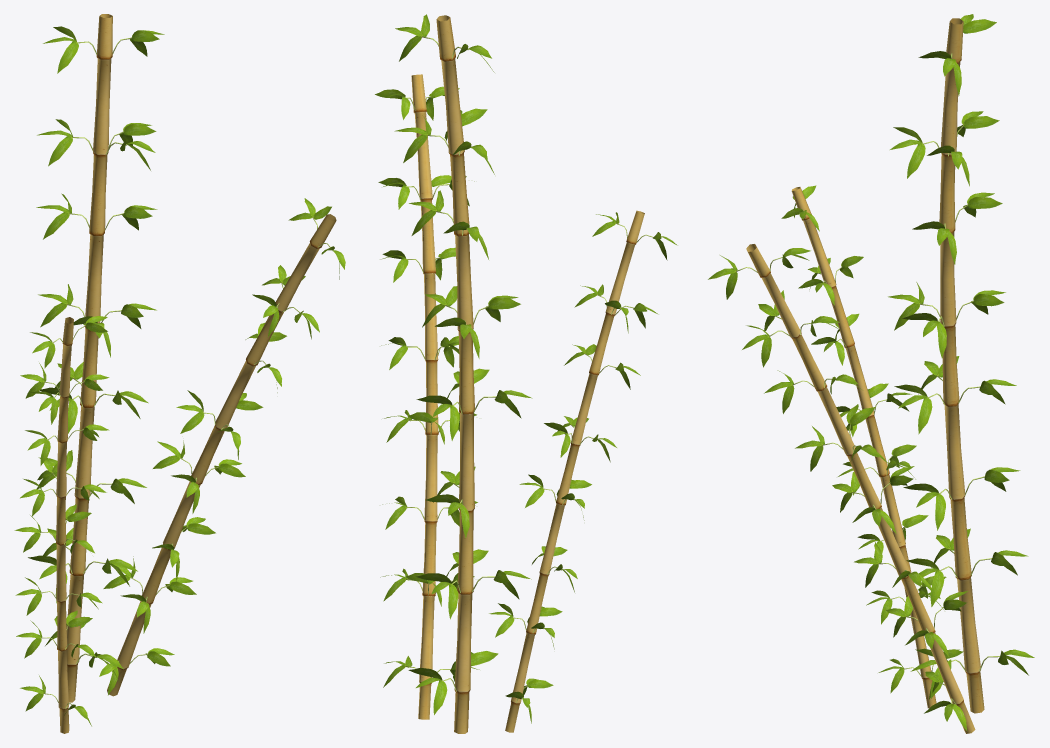
Rendered from bamboo.dae.
3 renders of one model, left to right at view 1: azimuth 30°, elevation 25°; view 2: azimuth 150°, elevation 25°; view 3: azimuth 270°, elevation 25°, orthographic. The views are drawn at different scales.
Parts seen in each view (by area): view 1: bamboo; view 2: bamboo; view 3: bamboo.
Part boxes in pixels (<box>): bamboo: <box>14,14,345,733</box>; bamboo: <box>375,14,677,733</box>; bamboo: <box>708,14,1034,733</box>.
Size of the model in its own units: 1.16 by 1.07 by 2.57.
Materials: 3 (2 with a texture image).
